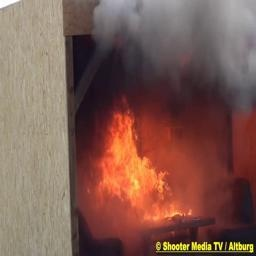fire: (92, 104, 188, 223)
